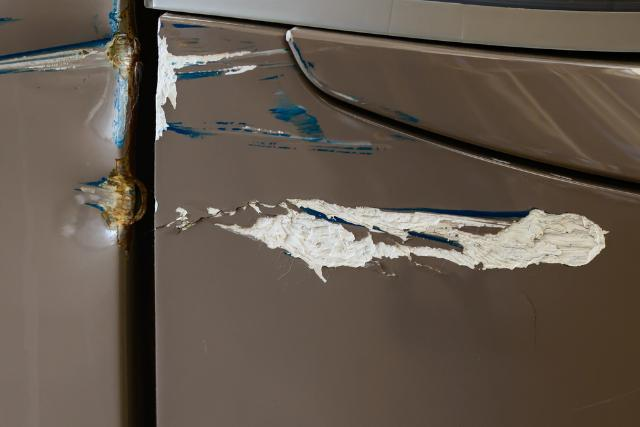dent: (0, 18, 130, 145), (57, 173, 133, 250)
scratch: (159, 196, 614, 286), (155, 18, 385, 156)
